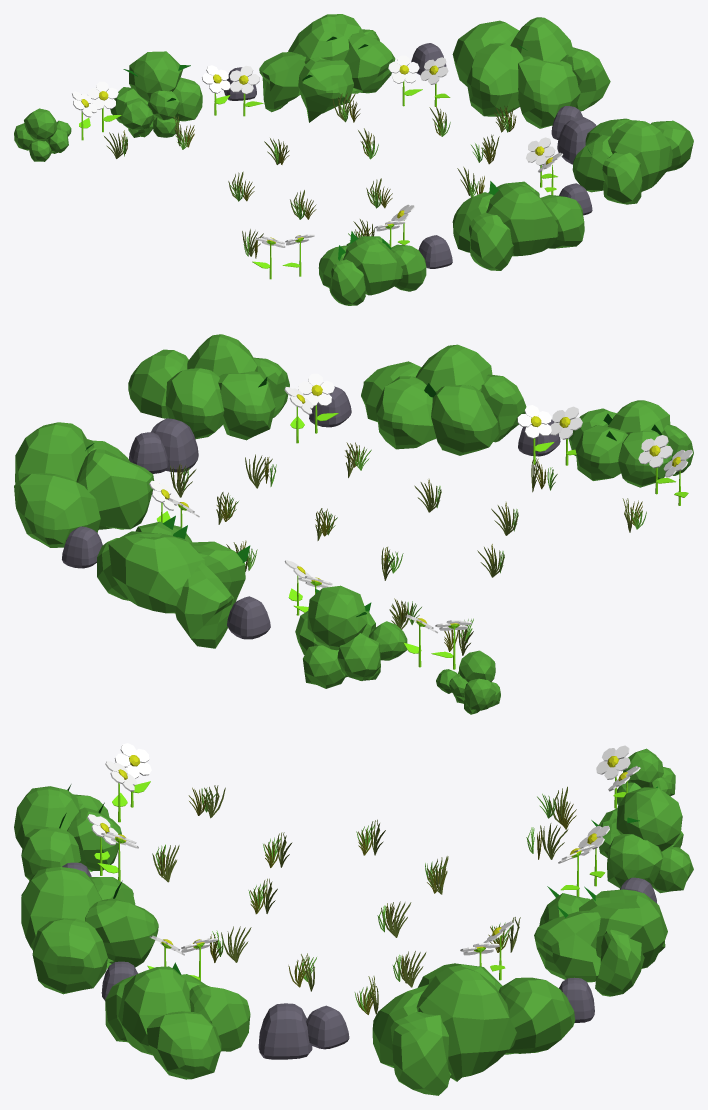
File: islaCentral.fbx
The picture shows the model from 3 angles, top to bottom: view 1: azimuth 30°, elevation 25°; view 2: azimuth 150°, elevation 25°; view 3: azimuth 270°, elevation 25°; orthographic projection. The views are drawn at different scales.
Parts seen in each view (by area): view 1: arbusto.001, arbusto, arbusto.003, arbusto.002, hojas4, arbusto.004, hojas4.001, piedra.003, piedra.005, florr1.002, florr1.003, florr1.008 (+7 smaller); view 2: arbusto.003, arbusto.001, arbusto.002, arbusto, hojas4, arbusto.004, hojas4.001, piedra.003, piedra.001, piedra, piedra.002, florr1.007 (+8 smaller); view 3: arbusto.001, arbusto.003, arbusto.002, arbusto, hojas4, arbusto.004, piedra.003, hojas4.001, piedra.002, piedra, florr1.010, florr1.009 (+4 smaller).
Part boxes in pixels (x1,y1,x2,y2): arbusto.001: (452,17,610,128); arbusto: (259,14,395,122); arbusto.003: (452,181,584,270); arbusto.002: (572,118,693,204); hojas4: (110,51,202,137); arbusto.004: (318,236,426,305); hojas4.001: (14,108,71,161); piedra.003: (557,117,596,164); piedra.005: (418,235,452,268); florr1.002: (388,55,422,106); florr1.003: (229,65,263,116); florr1.008: (87,81,121,132); arbusto.003: (361,344,526,455); arbusto.001: (14,422,154,547); arbusto.002: (128,334,289,440); arbusto: (97,521,245,648); hojas4: (295,585,407,688); arbusto.004: (568,400,693,487); hojas4.001: (436,650,500,714); piedra.003: (151,418,198,472); piedra.001: (227,596,270,639); piedra: (62,526,102,568); piedra.002: (129,432,168,473); florr1.007: (517,405,554,464); arbusto.001: (372,963,575,1095); arbusto.003: (21,867,158,994); arbusto.002: (105,966,250,1079); arbusto: (534,889,667,996); hojas4: (599,787,693,893); arbusto.004: (14,786,121,880); piedra.003: (258,1003,312,1059); hojas4.001: (617,748,675,805); piedra.002: (306,1005,349,1049); piedra: (559,977,594,1022); florr1.010: (114,743,151,807); florr1.009: (596,745,630,808).
Size of the model in its own units: 78.94 by 14.15 by 73.68.
